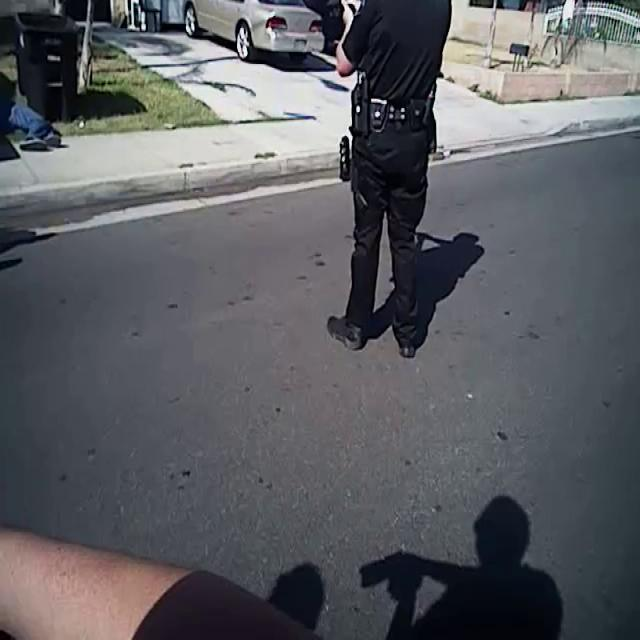gun: (321, 0, 366, 28)
